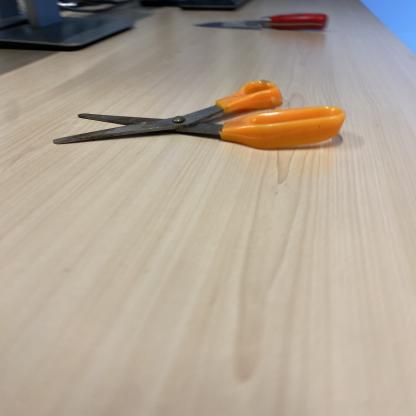Knife: (192, 12, 329, 35)
scissors: (53, 80, 347, 150)
